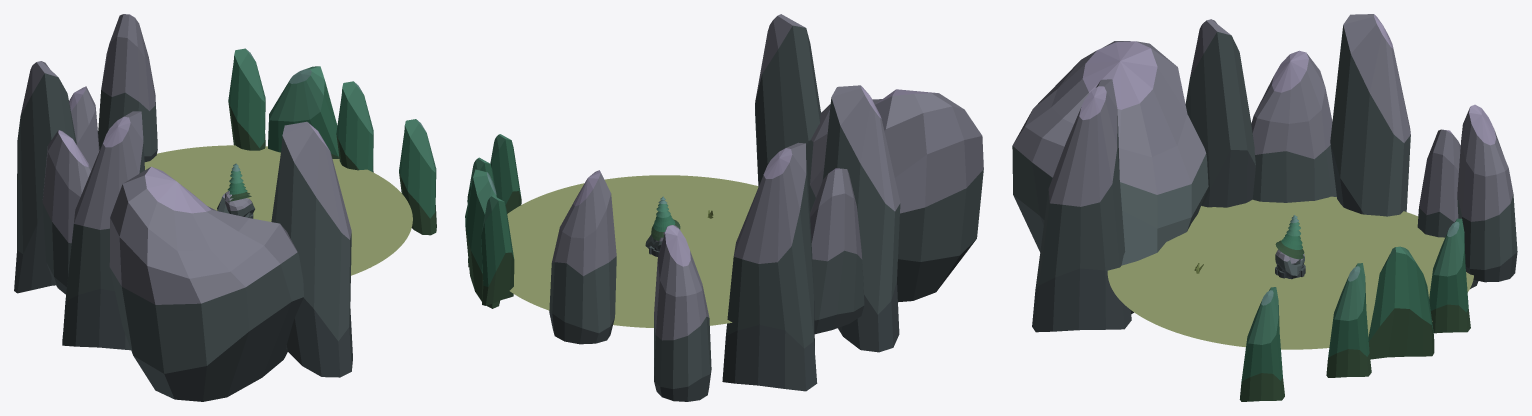
Rendered from Gras_long.fbx.
The picture shows the model from 3 angles, left to right: view 1: azimuth 30°, elevation 25°; view 2: azimuth 150°, elevation 25°; view 3: azimuth 270°, elevation 25°; orthographic projection. The views are drawn at different scales.
Visible parts, largest first — view 1: Stone 03.001, Stone 01.002, Platform, Stone 01.001, Stone 01.003, Stone 02.003, Stone 02, Stone 01.006, Stone 01.004, Stone 01.005, Stone 01.007, Stone 02.002 (+2 smaller); view 2: Platform, Stone 01.003, Stone 03.001, Stone 01.001, Stone 02.003, Stone 02.002, Stone 01.002, Stone 02, Stone 01.005, Stone 01.006, Stone 01.004, Tanne; view 3: Platform, Stone 03.001, Stone 01.002, Stone 01.003, Stone 02, Stone 01.001, Stone 02.003, Stone 01.006, Stone 01.007, Stone 01.004, Stone 02.002, Stone 01.005 (+2 smaller).
Part boxes in pixels (bbox=[...]): Stone 03.001: bbox=[109, 166, 303, 401]; Stone 01.002: bbox=[271, 121, 352, 377]; Platform: bbox=[144, 145, 412, 275]; Stone 01.001: bbox=[62, 111, 144, 350]; Stone 01.003: bbox=[14, 61, 76, 293]; Stone 02.003: bbox=[98, 14, 157, 161]; Stone 02: bbox=[42, 130, 91, 294]; Stone 01.006: bbox=[268, 66, 339, 158]; Stone 01.004: bbox=[399, 119, 436, 235]; Stone 01.005: bbox=[228, 48, 265, 150]; Stone 01.007: bbox=[336, 81, 373, 172]; Stone 02.002: bbox=[69, 86, 99, 168]; Platform: bbox=[507, 175, 758, 327]; Stone 01.003: bbox=[722, 142, 817, 391]; Stone 03.001: bbox=[806, 89, 983, 302]; Stone 01.001: bbox=[822, 85, 900, 352]; Stone 02.003: bbox=[549, 170, 616, 344]; Stone 02.002: bbox=[654, 225, 711, 401]; Stone 01.002: bbox=[755, 14, 820, 186]; Stone 02: bbox=[810, 168, 864, 334]; Stone 01.005: bbox=[481, 195, 514, 305]; Stone 01.006: bbox=[465, 169, 499, 308]; Stone 01.004: bbox=[490, 134, 521, 213]; Tanne: bbox=[649, 196, 680, 256]; Platform: bbox=[1107, 196, 1473, 349]; Stone 03.001: bbox=[1012, 41, 1208, 313]; Stone 01.002: bbox=[1032, 79, 1131, 332]; Stone 01.003: bbox=[1330, 14, 1410, 216]; Stone 02: bbox=[1251, 50, 1336, 202]; Stone 01.001: bbox=[1185, 19, 1255, 207]; Stone 02.003: bbox=[1457, 104, 1517, 282]; Stone 01.006: bbox=[1368, 246, 1434, 359]; Stone 01.007: bbox=[1326, 263, 1371, 377]; Stone 01.004: bbox=[1239, 287, 1284, 401]; Stone 02.002: bbox=[1417, 129, 1478, 288]; Stone 01.005: bbox=[1429, 218, 1470, 333].
Bounding box in the file's own units: 12666 × 7255 × 13726.
